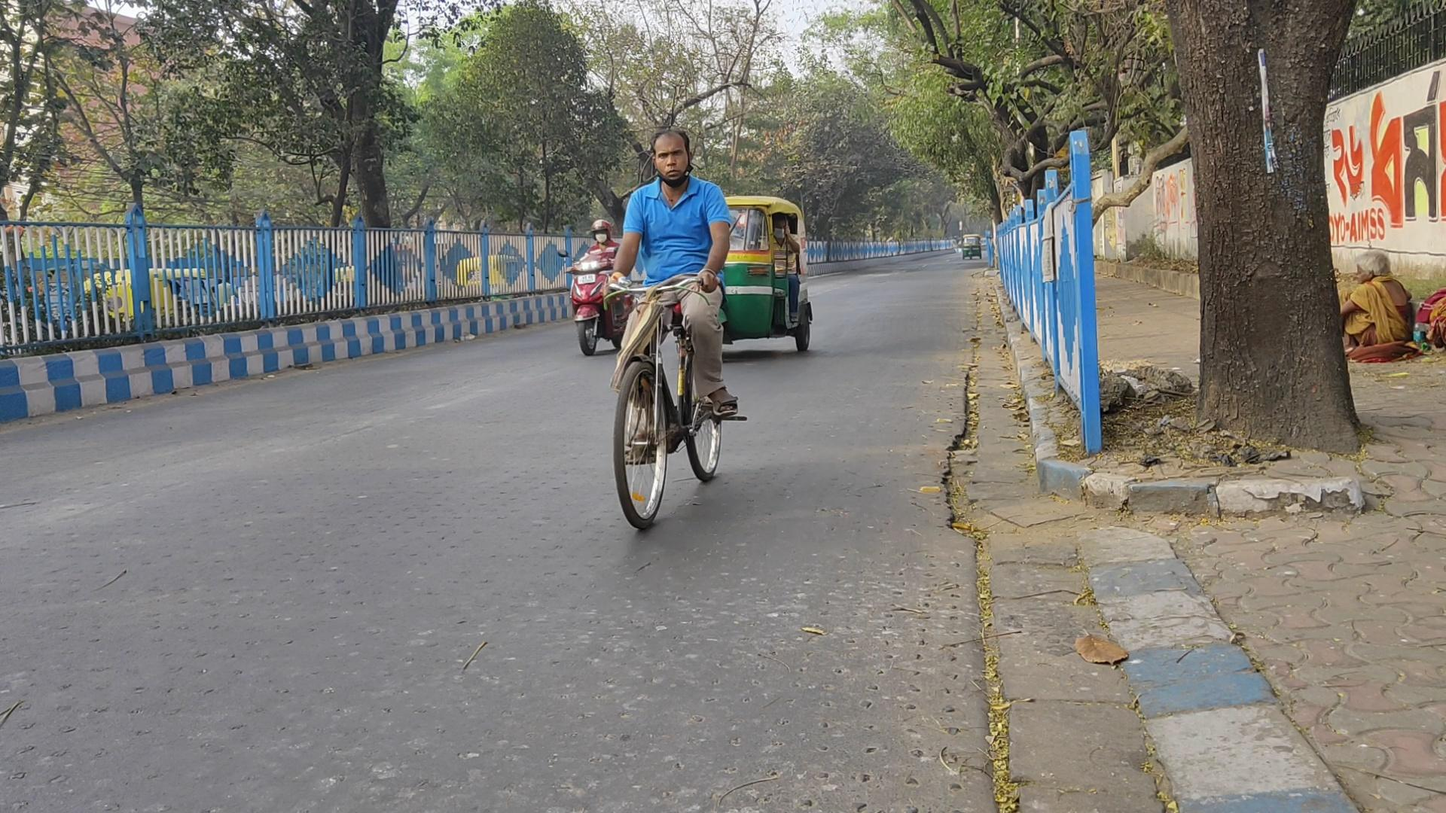Auto: (692, 196, 813, 355), (960, 232, 983, 260)
bike: (603, 129, 748, 531), (557, 219, 667, 355)
